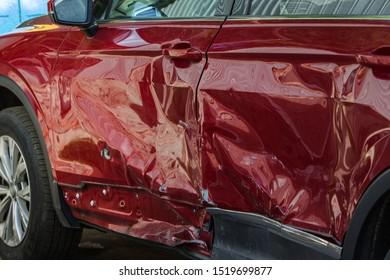doorouter-dent: (210, 19, 389, 212), (44, 19, 210, 207)
